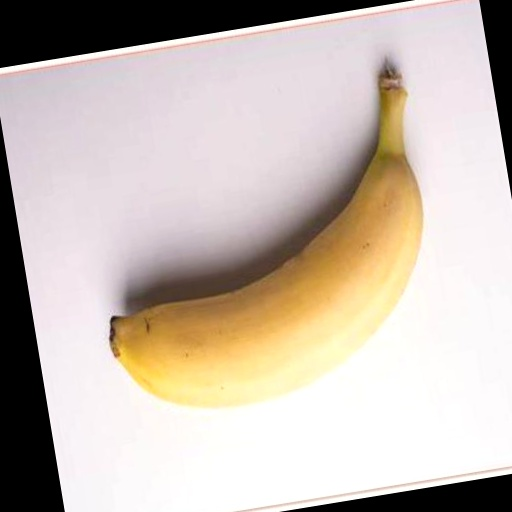fruit: (110, 68, 423, 407)
